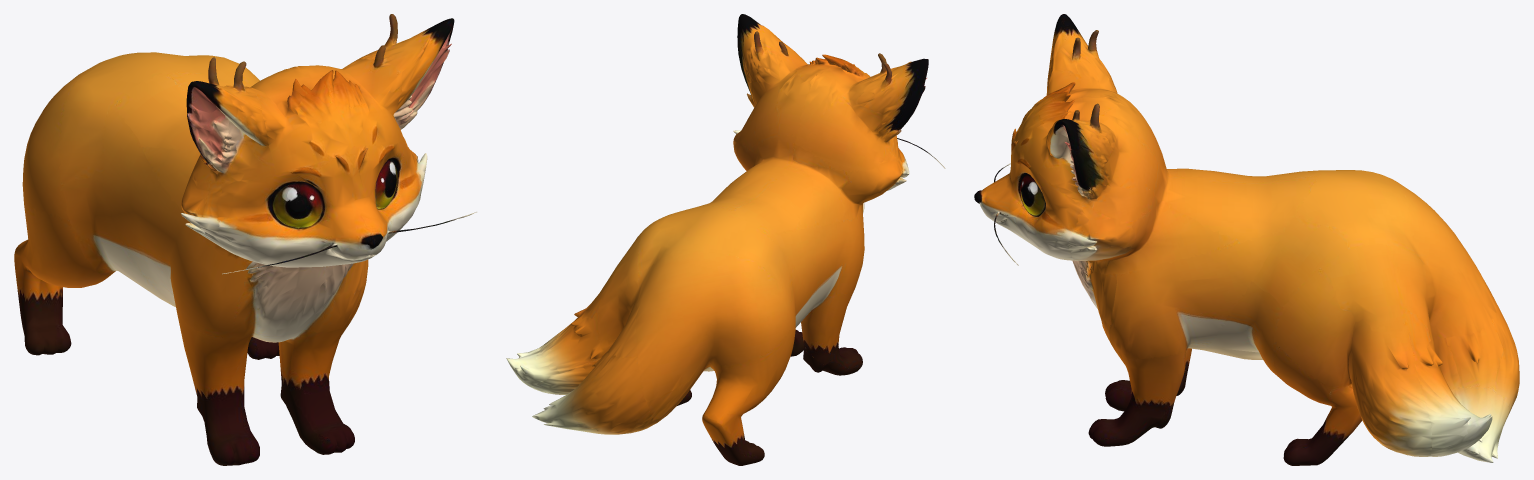
Rendered from youshou.glb.
3 views of the same model, side by side, from view 1: azimuth 30°, elevation 25°; view 2: azimuth 150°, elevation 25°; view 3: azimuth 270°, elevation 25° (orthographic). The views are drawn at different scales.
Size of the model in its own units: 1.15 by 1.38 by 1.9.
Materials: 1 (1 with a texture image).
